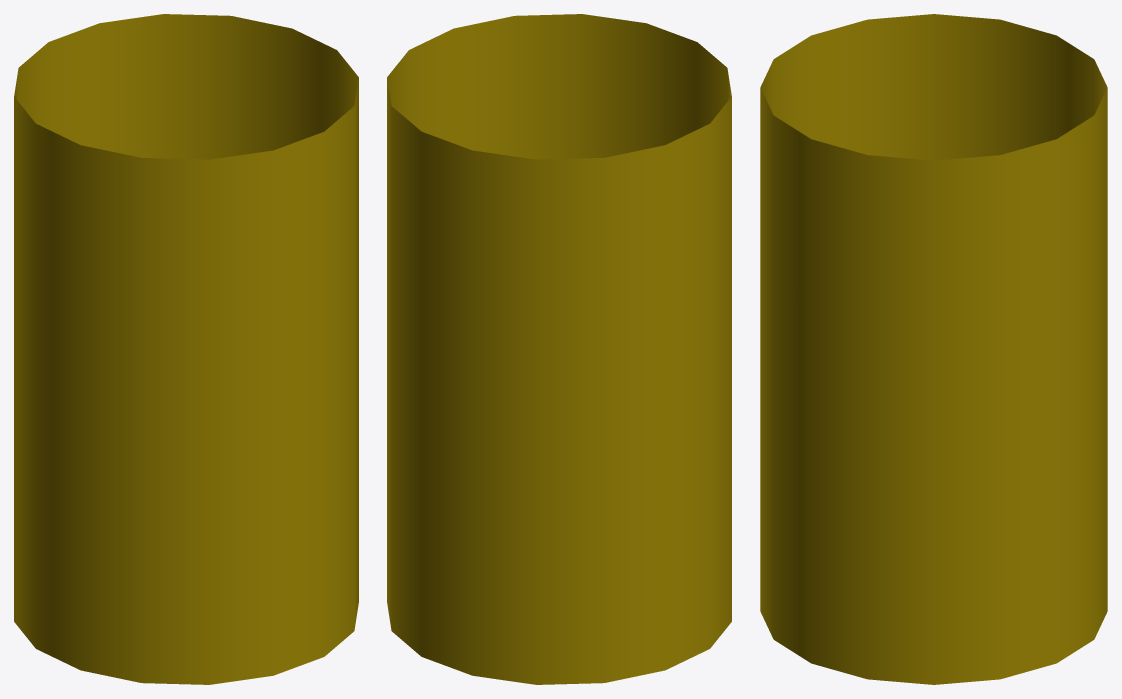
Rendered from yellow_item_aura.fbx.
The picture shows the model from 3 angles, left to right: view 1: azimuth 30°, elevation 25°; view 2: azimuth 150°, elevation 25°; view 3: azimuth 270°, elevation 25°; orthographic projection.
Parts seen in each view (by area): view 1: pCylinder1; view 2: pCylinder1; view 3: pCylinder1.
Part boxes in pixels (bbox=[...]): pCylinder1: bbox=[14, 14, 358, 684]; pCylinder1: bbox=[387, 14, 731, 684]; pCylinder1: bbox=[760, 14, 1107, 684].
Size of the model in its own units: 60 by 100 by 60.
Materials: 1 (1 with a texture image).
